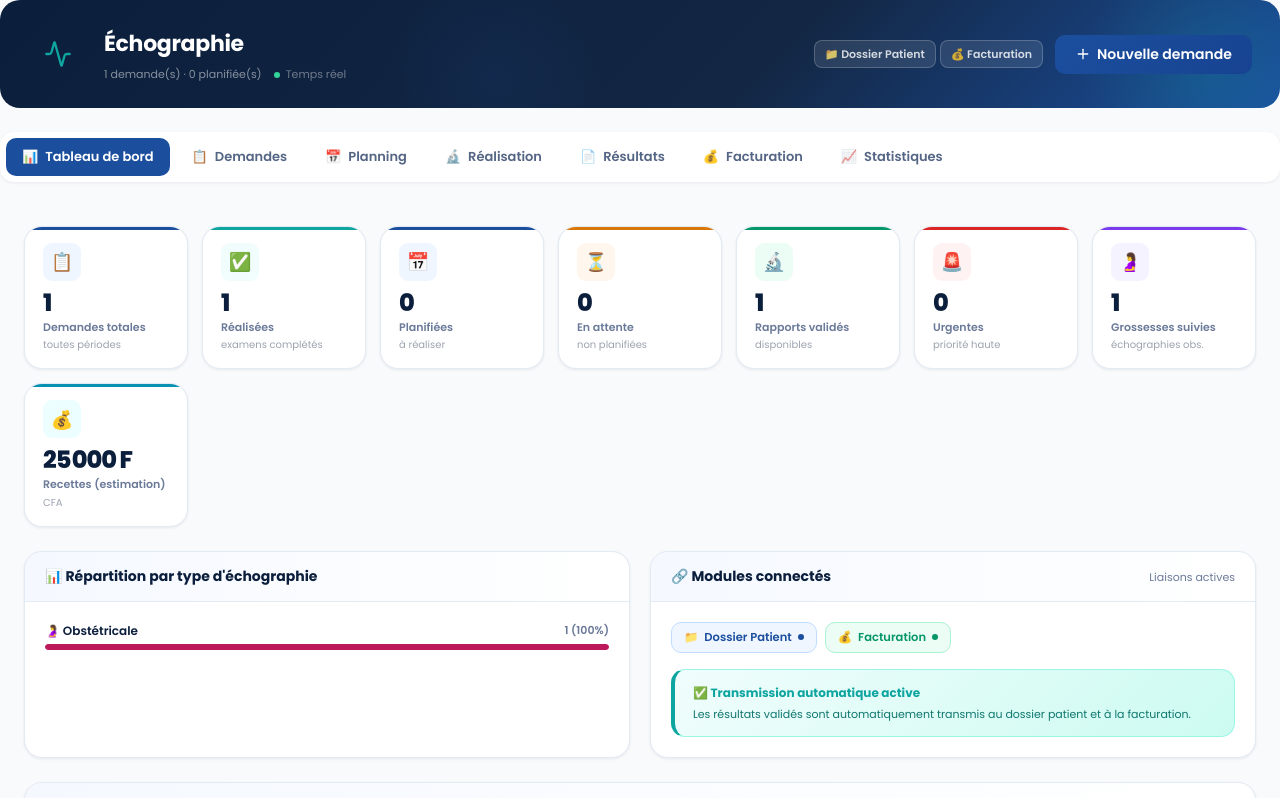
le bouton "Rapport" ouvre le vrai compte rendu enregistré (jamais un rapport vide/fictif)
The width and height of the screenshot is (1280, 798).
Click the button "📄 Résultats": (622, 157) [564,138,681,176]
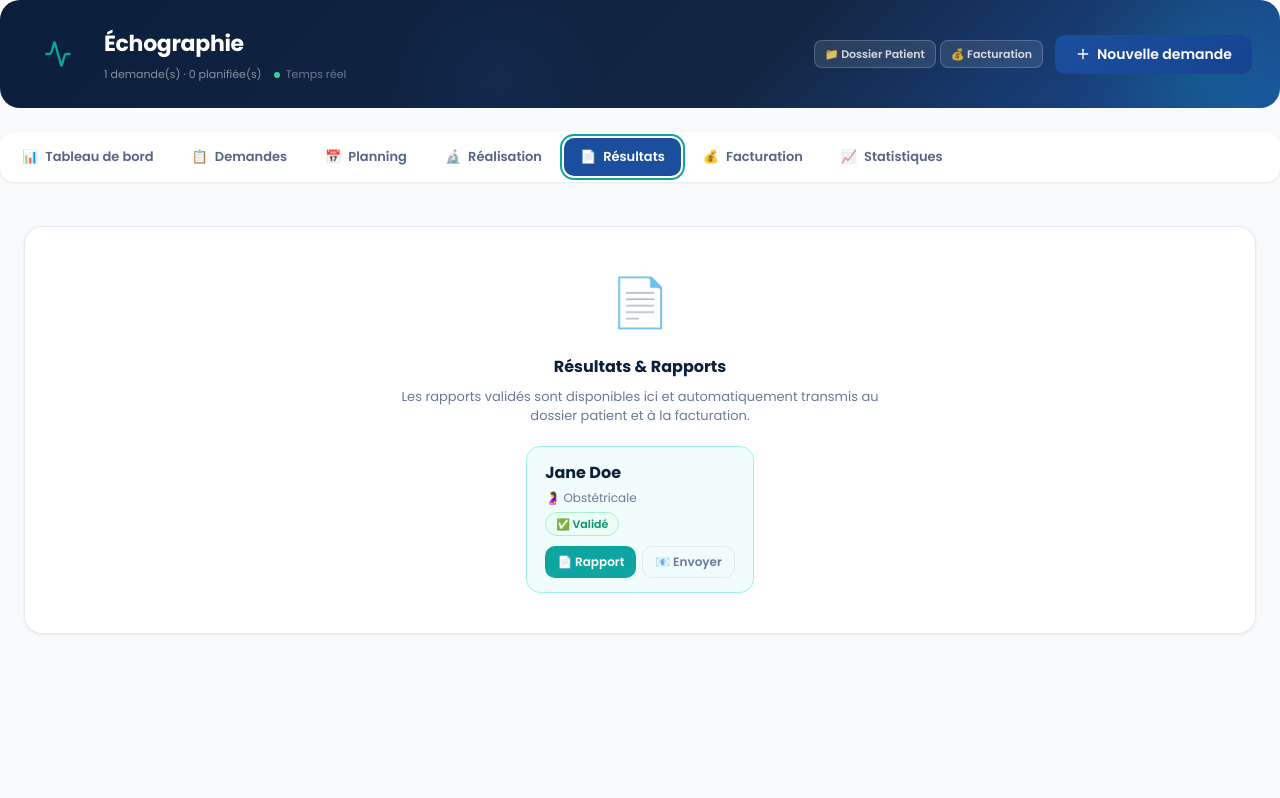
Click the button "📄 Rapport": (591, 562) [545,546,636,578]
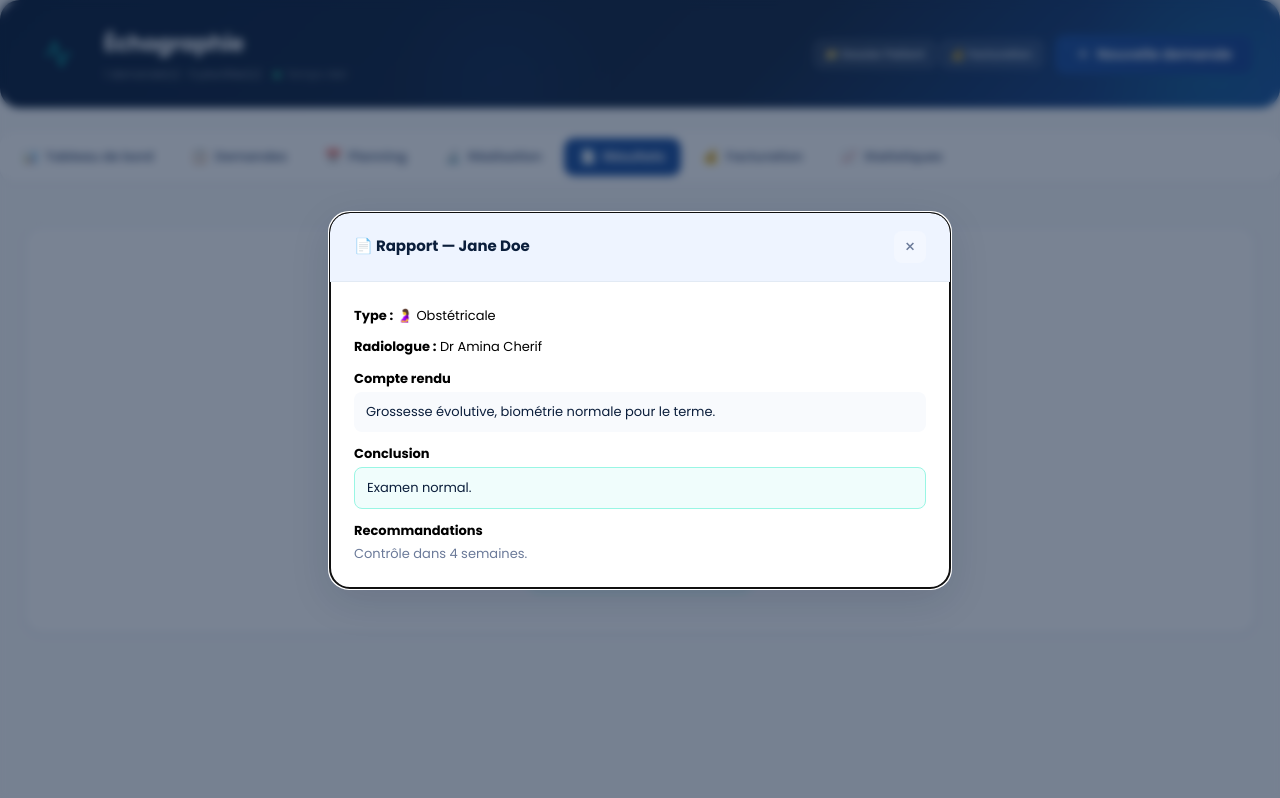
Now the dialog shows "Dr Amina Cherif", box [440,337,542,356]
